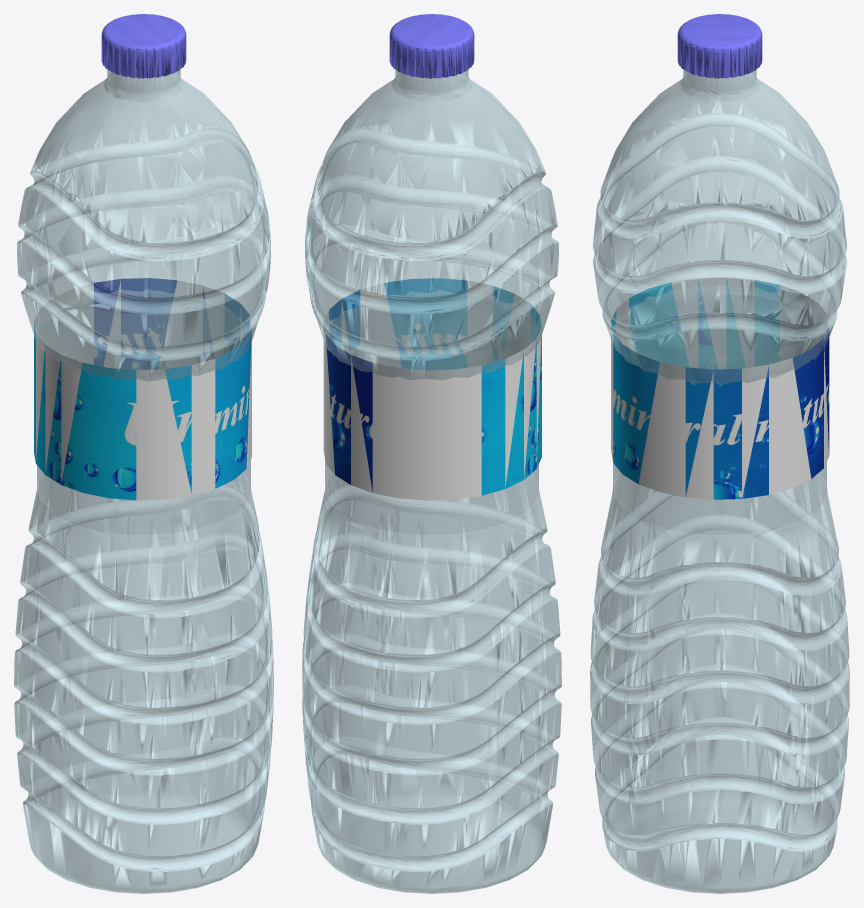
3 views of the same model, side by side, from view 1: azimuth 30°, elevation 25°; view 2: azimuth 150°, elevation 25°; view 3: azimuth 270°, elevation 25° (orthographic).
Visible parts, largest first — view 1: ETIQUETA1/ETIQUETA/mesh652/mesh652-geometry#mesh652-geometry; view 2: ETIQUETA1/ETIQUETA/mesh652/mesh652-geometry#mesh652-geometry; view 3: ETIQUETA1/ETIQUETA/mesh652/mesh652-geometry#mesh652-geometry.
Part boxes in pixels (x1,y1,x2,y2): ETIQUETA1/ETIQUETA/mesh652/mesh652-geometry#mesh652-geometry: (14,14,273,893); ETIQUETA1/ETIQUETA/mesh652/mesh652-geometry#mesh652-geometry: (302,14,561,893); ETIQUETA1/ETIQUETA/mesh652/mesh652-geometry#mesh652-geometry: (590,14,849,893).
Bounding box in the file's own units: 0.5269 × 1.83 × 0.5265.
8 materials, 6 textured.
